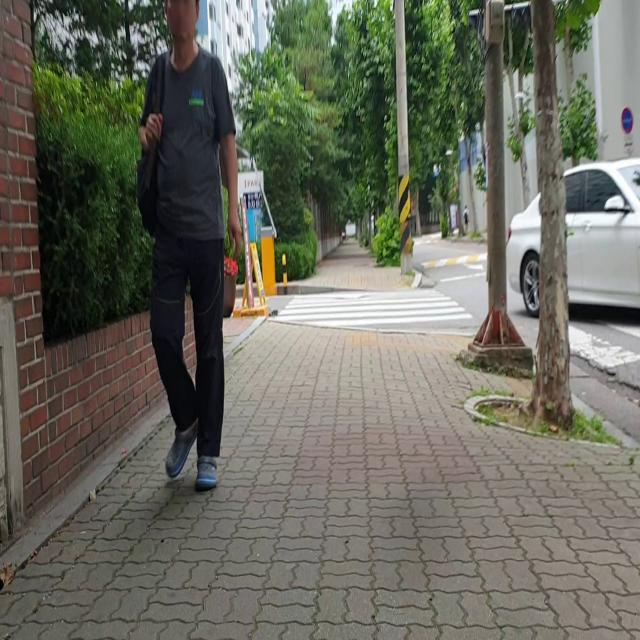횡단보도: (266, 289, 474, 327)
